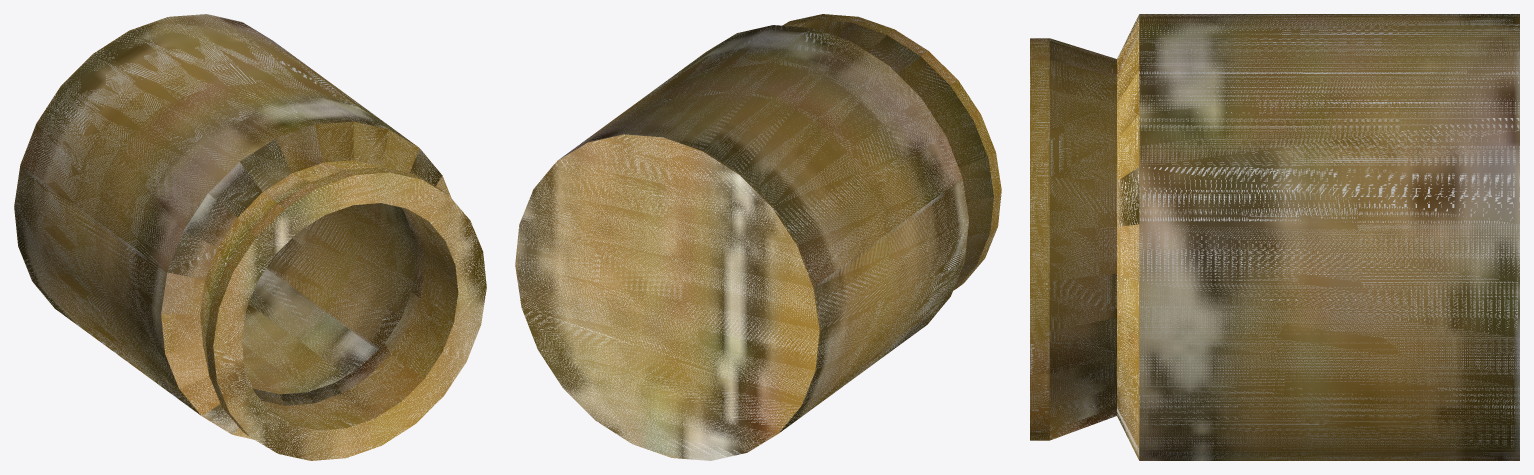
File: model_align.obj
The picture shows the model from 3 angles, left to right: view 1: azimuth 30°, elevation 25°; view 2: azimuth 150°, elevation 25°; view 3: azimuth 270°, elevation 25°; orthographic projection. The views are drawn at different scales.
Parts seen in each view (by area): view 1: mesh1_mesh1-geometry; view 2: mesh1_mesh1-geometry; view 3: mesh1_mesh1-geometry.
Part boxes in pixels (x1=…): mesh1_mesh1-geometry: x1=14, y1=14, x2=486, y2=460; mesh1_mesh1-geometry: x1=515, y1=14, x2=1001, y2=460; mesh1_mesh1-geometry: x1=1030, y1=14, x2=1519, y2=460.
Size of the model in its own units: 0.1639 by 0.1639 by 0.1794.
Materials: 2 (1 with a texture image).
